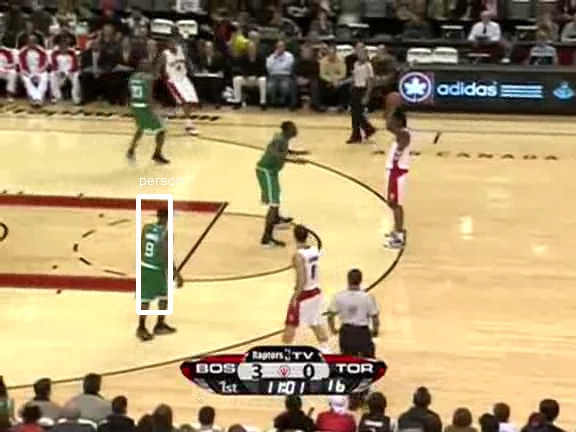person: (139, 225, 173, 306), (138, 225, 172, 306), (140, 225, 174, 306), (139, 224, 173, 305), (139, 226, 173, 307)
target_negative: (224, 72, 450, 225), (240, 114, 389, 215), (345, 242, 392, 387), (421, 333, 434, 414), (495, 191, 524, 217), (507, 344, 523, 364)
